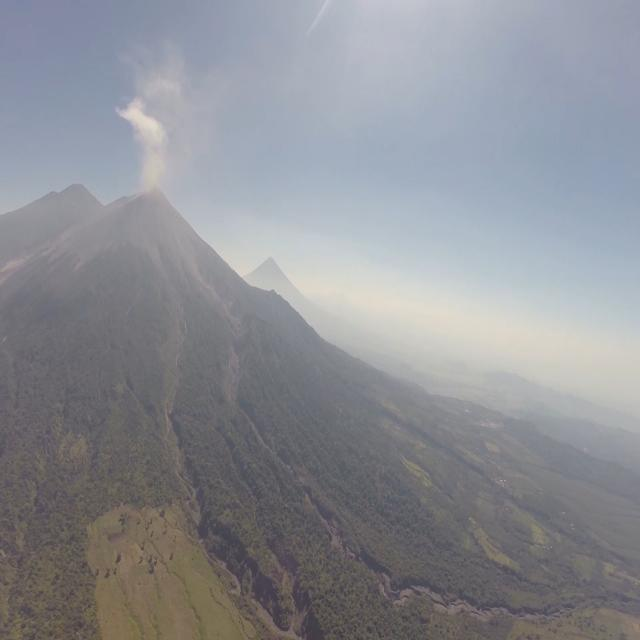Plume: (118, 95, 176, 195)
Summit: (125, 177, 172, 215)
